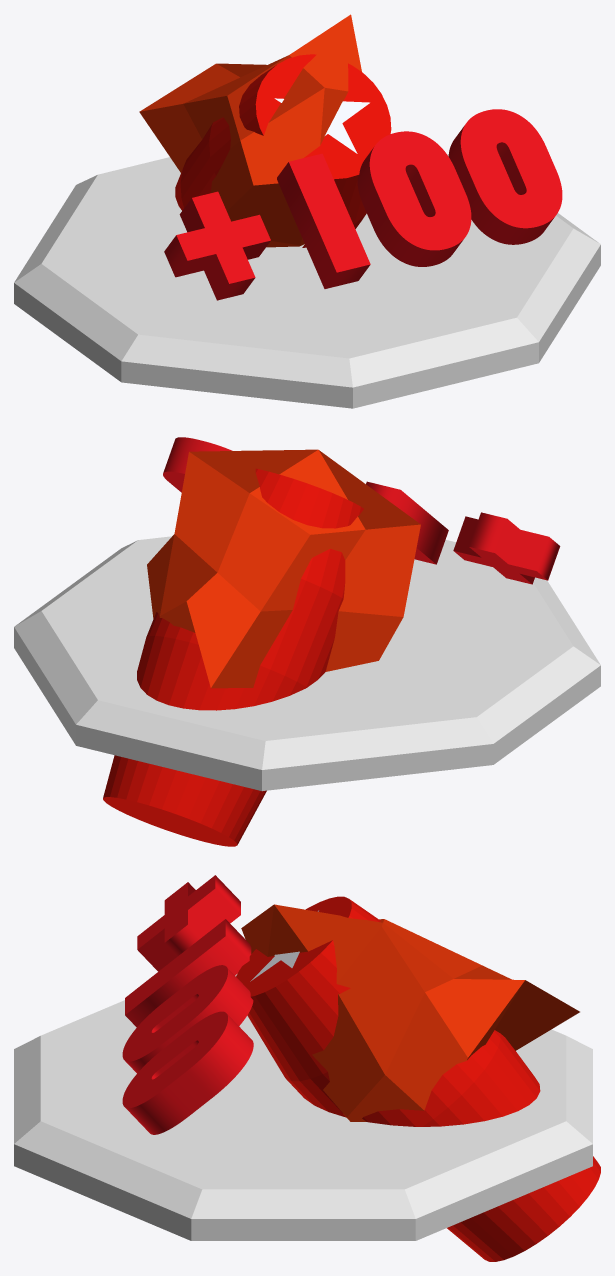
File: Remov100.fbx
The picture shows the model from 3 angles, top to bottom: view 1: azimuth 30°, elevation 25°; view 2: azimuth 150°, elevation 25°; view 3: azimuth 270°, elevation 25°; orthographic projection. The views are drawn at different scales.
Parts seen in each view (by area): view 1: Cube, Text, Cube.002, Text.001; view 2: Cube, Cube.002, Text.001, Text; view 3: Cube, Cube.002, Text.001, Text.
Part boxes in pixels (x1,y1,x2,y2): Cube: [14, 154, 600, 408]; Text: [164, 109, 562, 300]; Cube.002: [139, 14, 361, 247]; Text.001: [175, 54, 391, 247]; Cube: [14, 536, 600, 791]; Cube.002: [147, 449, 420, 688]; Text.001: [103, 468, 363, 846]; Text: [163, 437, 560, 584]; Cube: [14, 974, 592, 1240]; Cube.002: [241, 904, 579, 1121]; Text.001: [236, 896, 600, 1261]; Text: [122, 875, 253, 1134].
Bounding box in the file's own units: 90.03 × 60.94 × 91.26.
